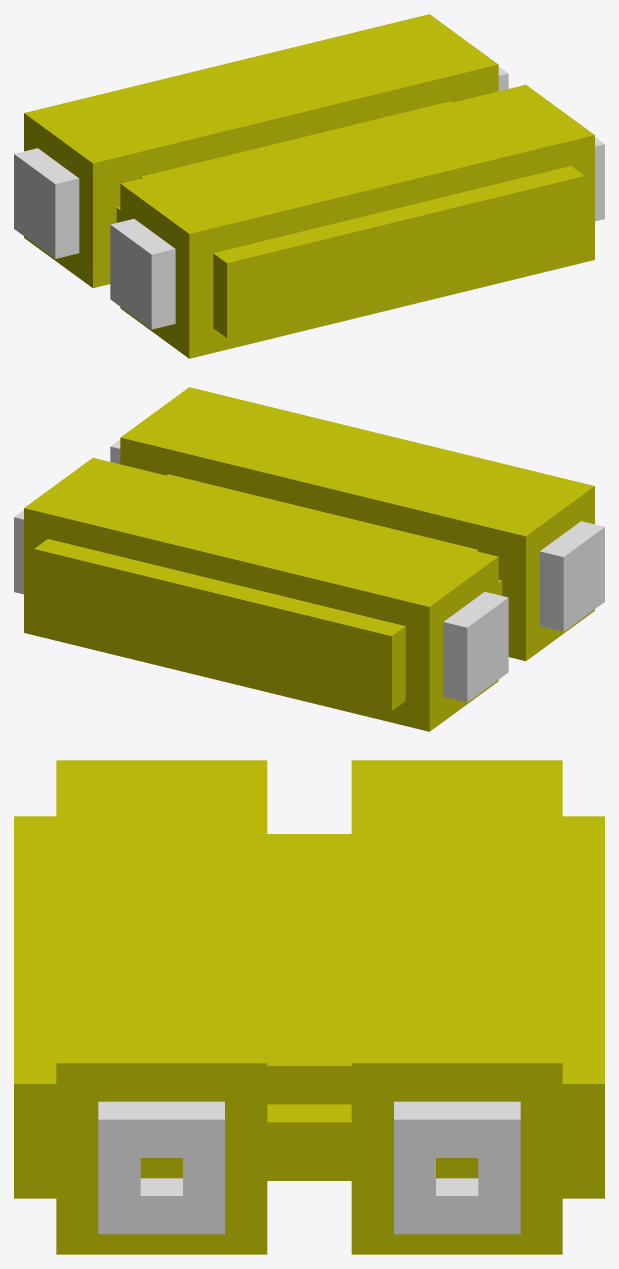
Rendered from RocketLauncherTower.obj.
3 renders of one model, top to bottom at view 1: azimuth 30°, elevation 25°; view 2: azimuth 150°, elevation 25°; view 3: azimuth 270°, elevation 25°, orthographic. The views are drawn at different scales.
Bounding box in the file's own units: 1.9 × 0.5 × 1.4.
1 material, 1 textured.
